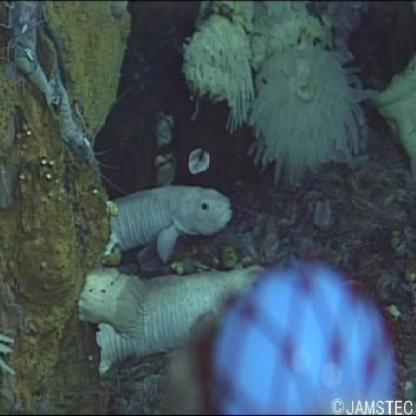Bio: (76, 182, 272, 378), (1, 1, 117, 179)
